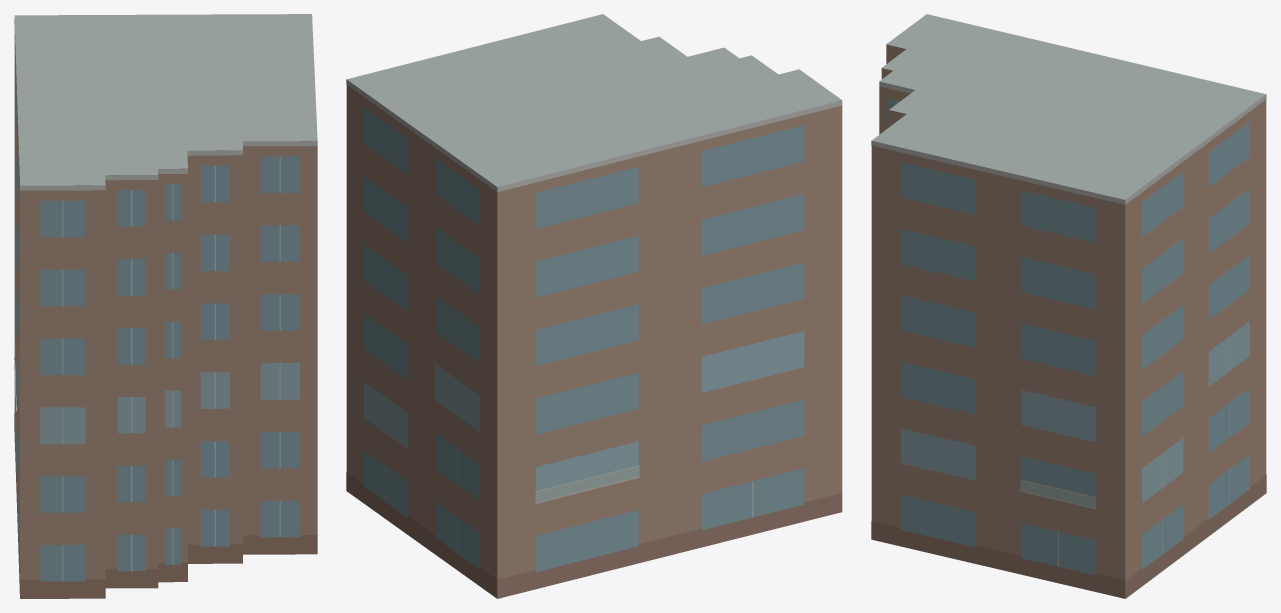
Rendered from survey-upis-33024024.glb.
3 renders of one model, left to right at view 1: azimuth 30°, elevation 25°; view 2: azimuth 150°, elevation 25°; view 3: azimuth 270°, elevation 25°, orthographic. The views are drawn at different scales.
Parts seen in each view (by area): view 1: survey-upis-33024024.tmp; view 2: survey-upis-33024024.tmp; view 3: survey-upis-33024024.tmp.
Part boxes in pixels (box(x1,y1,x2,y2)): survey-upis-33024024.tmp: box(14, 14, 317, 598); survey-upis-33024024.tmp: box(346, 14, 842, 598); survey-upis-33024024.tmp: box(871, 14, 1266, 598).
Size of the model in its own units: 19.86 by 19.85 by 17.82.
